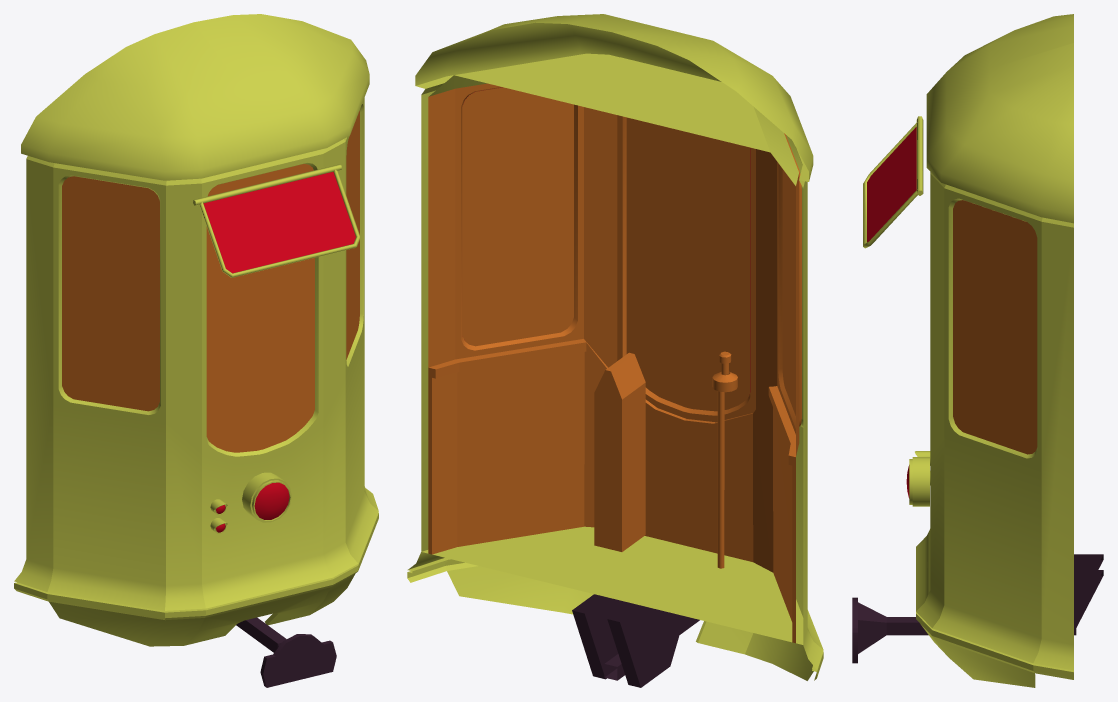
The model's file is vagon end lod1.FBX.
3 renders of one model, left to right at view 1: azimuth 30°, elevation 25°; view 2: azimuth 150°, elevation 25°; view 3: azimuth 270°, elevation 25°, orthographic. The views are drawn at different scales.
Parts seen in each view (by area): view 1: Box236, Group087; view 2: Box236; view 3: Box236, Group087.
Part boxes in pixels (x1,y1,x2,y2): Box236: [14, 14, 378, 687]; Group087: [193, 164, 360, 277]; Box236: [407, 14, 823, 687]; Box236: [852, 14, 1103, 687]; Group087: [863, 116, 923, 248].
Size of the model in its own units: 2.25 by 3.47 by 1.31.
